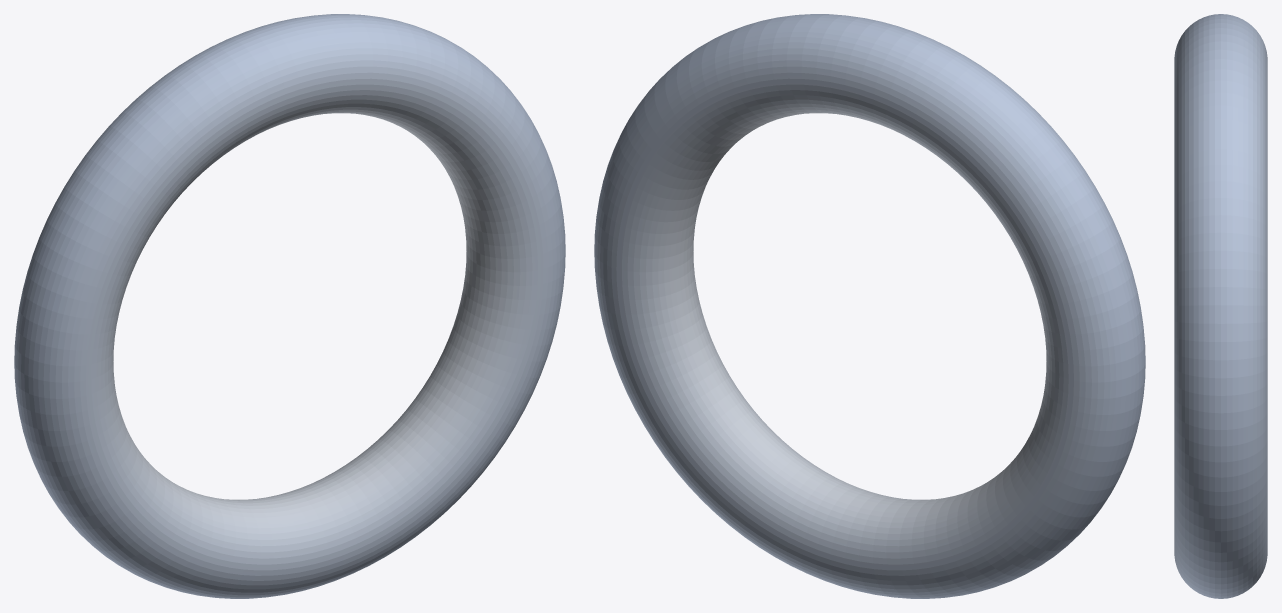
The picture shows the model from 3 angles, left to right: view 1: azimuth 30°, elevation 25°; view 2: azimuth 150°, elevation 25°; view 3: azimuth 270°, elevation 25°; orthographic projection. The views are drawn at different scales.
Visible parts, largest first — view 1: world; view 2: world; view 3: world.
Boxes of the visible parts, x1,y1,x2,y2 form: world: (14,14,565,598); world: (594,14,1145,598); world: (1174,14,1267,598).
Bounding box in the file's own units: 15.87 × 15.87 × 2.53.
